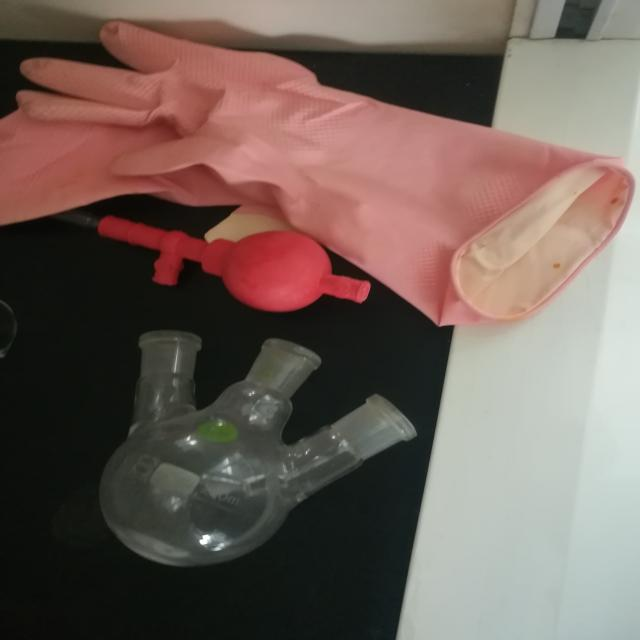Round_Bottom_Flask_Borosilicate_Glass_3_Neck: (76, 298, 428, 594)
